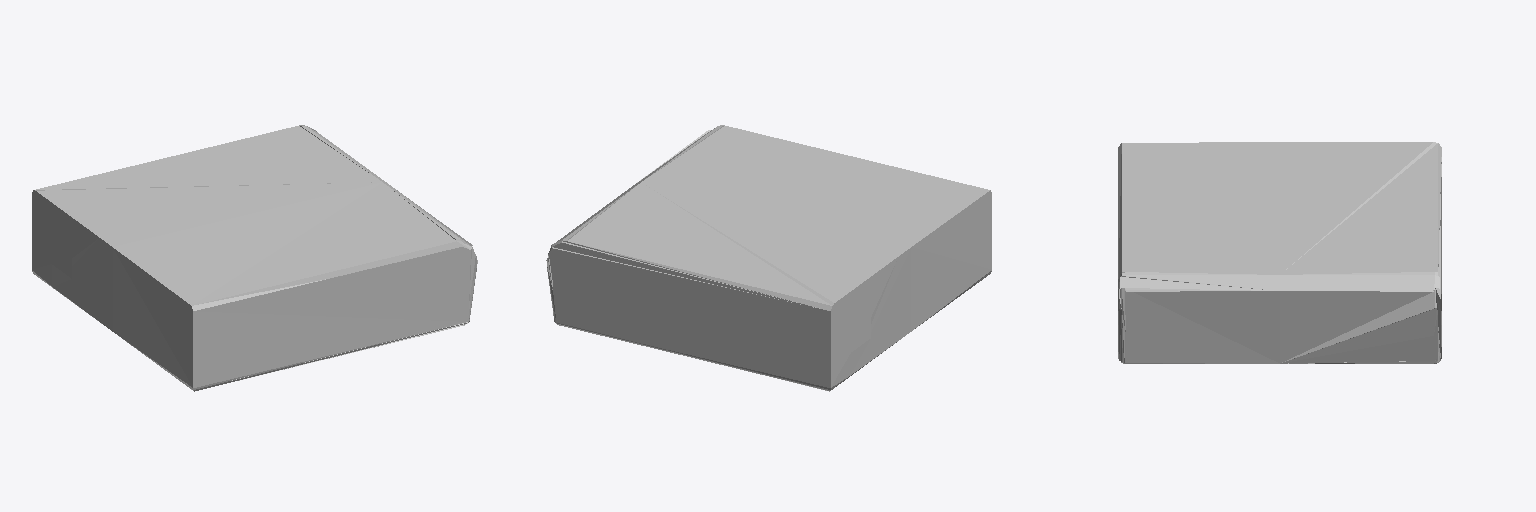
File: mid_seat.obj
3 renders of one model, left to right at view 1: azimuth 30°, elevation 25°; view 2: azimuth 150°, elevation 25°; view 3: azimuth 270°, elevation 25°, orthographic.
Parts seen in each view (by area): view 1: mid_seat_mesh2.005_mesh2-geometry; view 2: mid_seat_mesh2.005_mesh2-geometry; view 3: mid_seat_mesh2.005_mesh2-geometry.
Boxes of the visible parts, box(x1,y1,x2,y2) form: mid_seat_mesh2.005_mesh2-geometry: box(32, 125, 477, 391); mid_seat_mesh2.005_mesh2-geometry: box(546, 125, 991, 391); mid_seat_mesh2.005_mesh2-geometry: box(1118, 142, 1441, 363).
Size of the model in its own units: 0.2893 by 0.0847 by 0.2826.